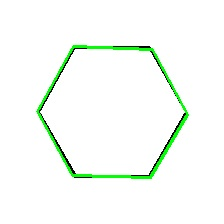line_segment: (37, 45, 188, 179)
